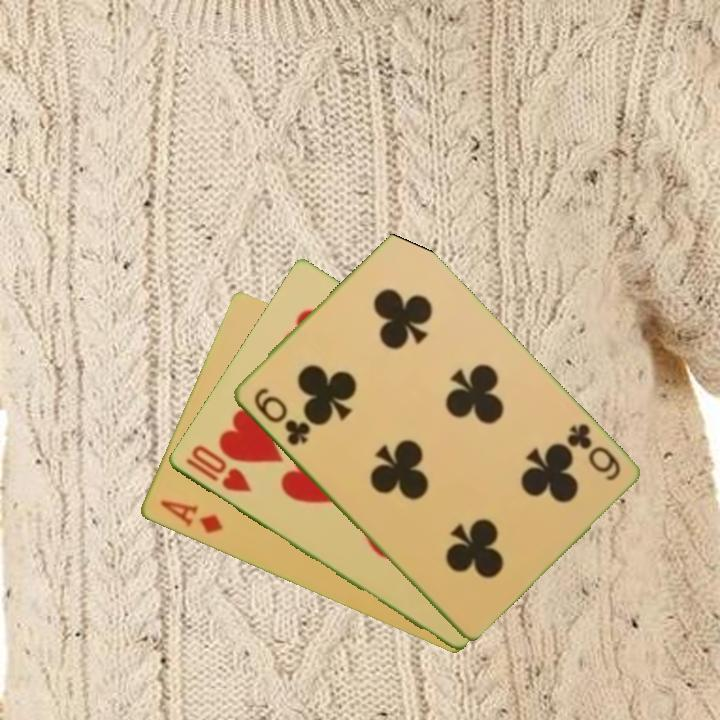10h: (181, 441, 254, 496)
6c: (249, 384, 313, 449), (562, 419, 623, 484)
Ad: (156, 496, 225, 537)
